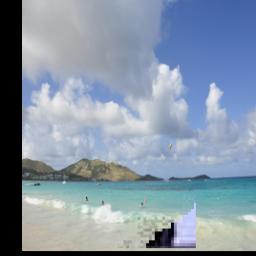Crow: (110, 0, 197, 248)
